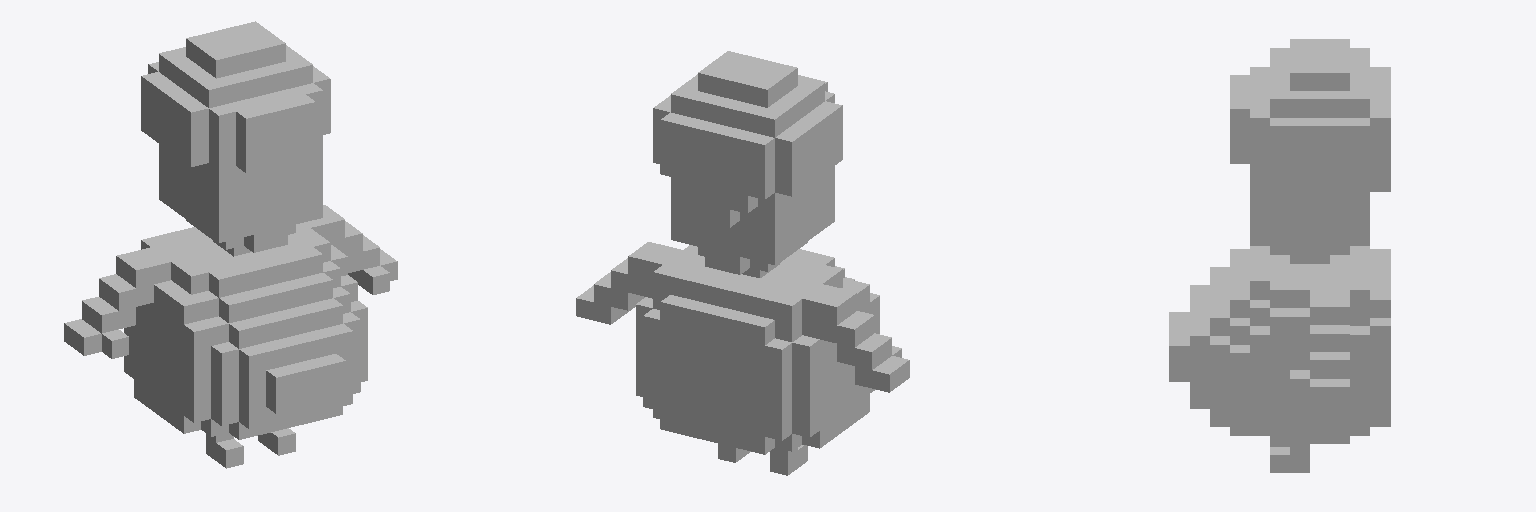
The model's file is chef.obj.
The picture shows the model from 3 angles: view 1: azimuth 30°, elevation 25°; view 2: azimuth 150°, elevation 25°; view 3: azimuth 270°, elevation 25°; orthographic projection.
Visible parts, largest first — view 1: chef; view 2: chef; view 3: chef.
Boxes of the visible parts, <box> form: chef: <box>64,21,397,468</box>; chef: <box>576,51,909,475</box>; chef: <box>1169,39,1390,472</box>.
Size of the model in its own units: 18 by 22 by 11.